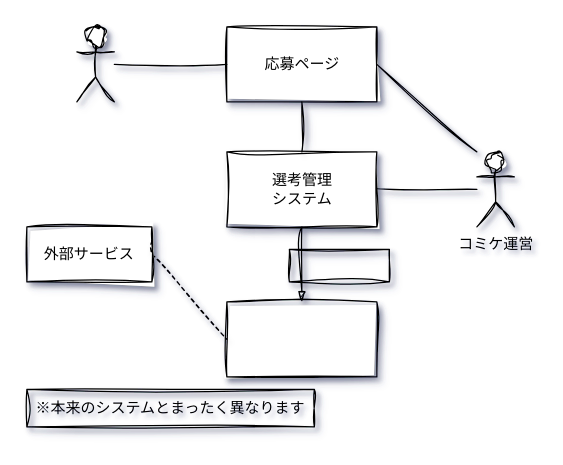
Image size: 563x465. Some labels were removed from this diagram. The centre of each missing label's shape, as x and y in pixels:
メールサービス: [302,341]
メール送信 リクエスト: [340,267]
応募者: [96,66]
